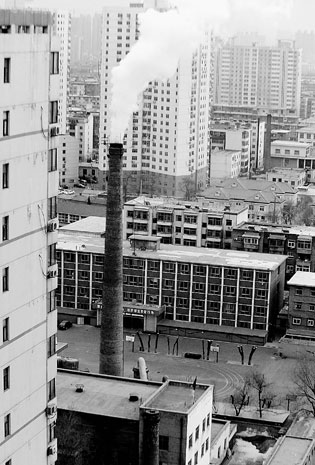dust: (98, 4, 200, 150)
